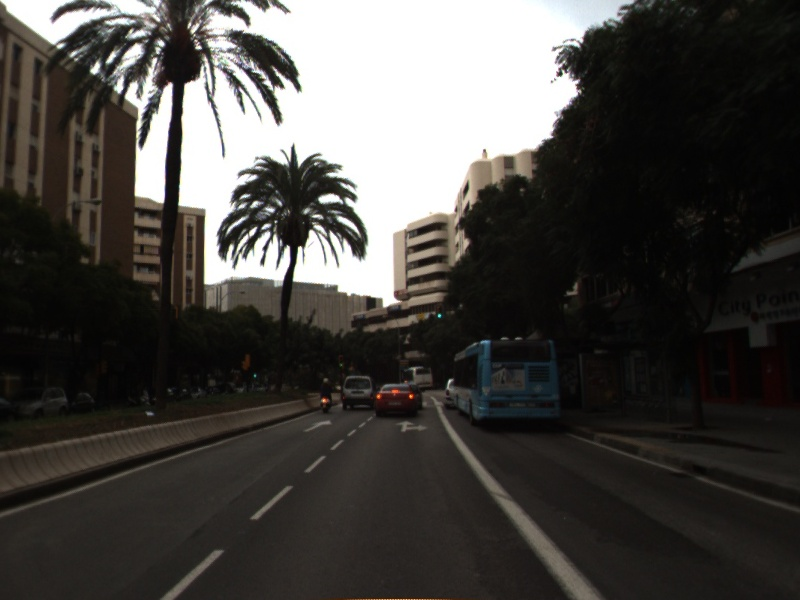STRAIGHT: (301, 418, 335, 434)
STRAIGHT_RIGHT: (394, 419, 430, 434)
